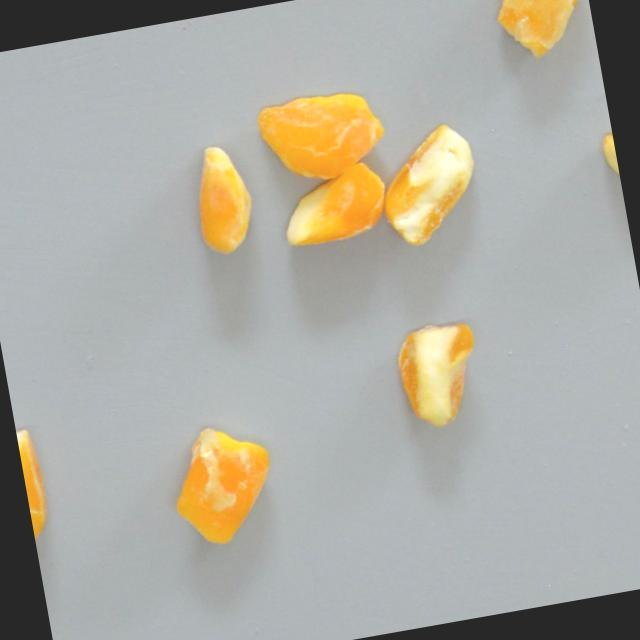pelicula: (158, 410, 286, 555), (249, 77, 394, 193), (370, 119, 489, 254), (270, 155, 399, 258), (391, 312, 495, 436), (180, 135, 269, 260), (492, 0, 597, 66), (14, 421, 60, 552), (594, 132, 626, 215)
